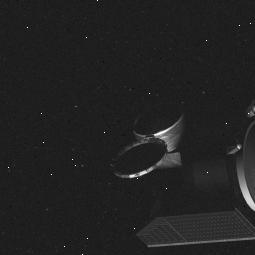cheops: (108, 100, 255, 248)
